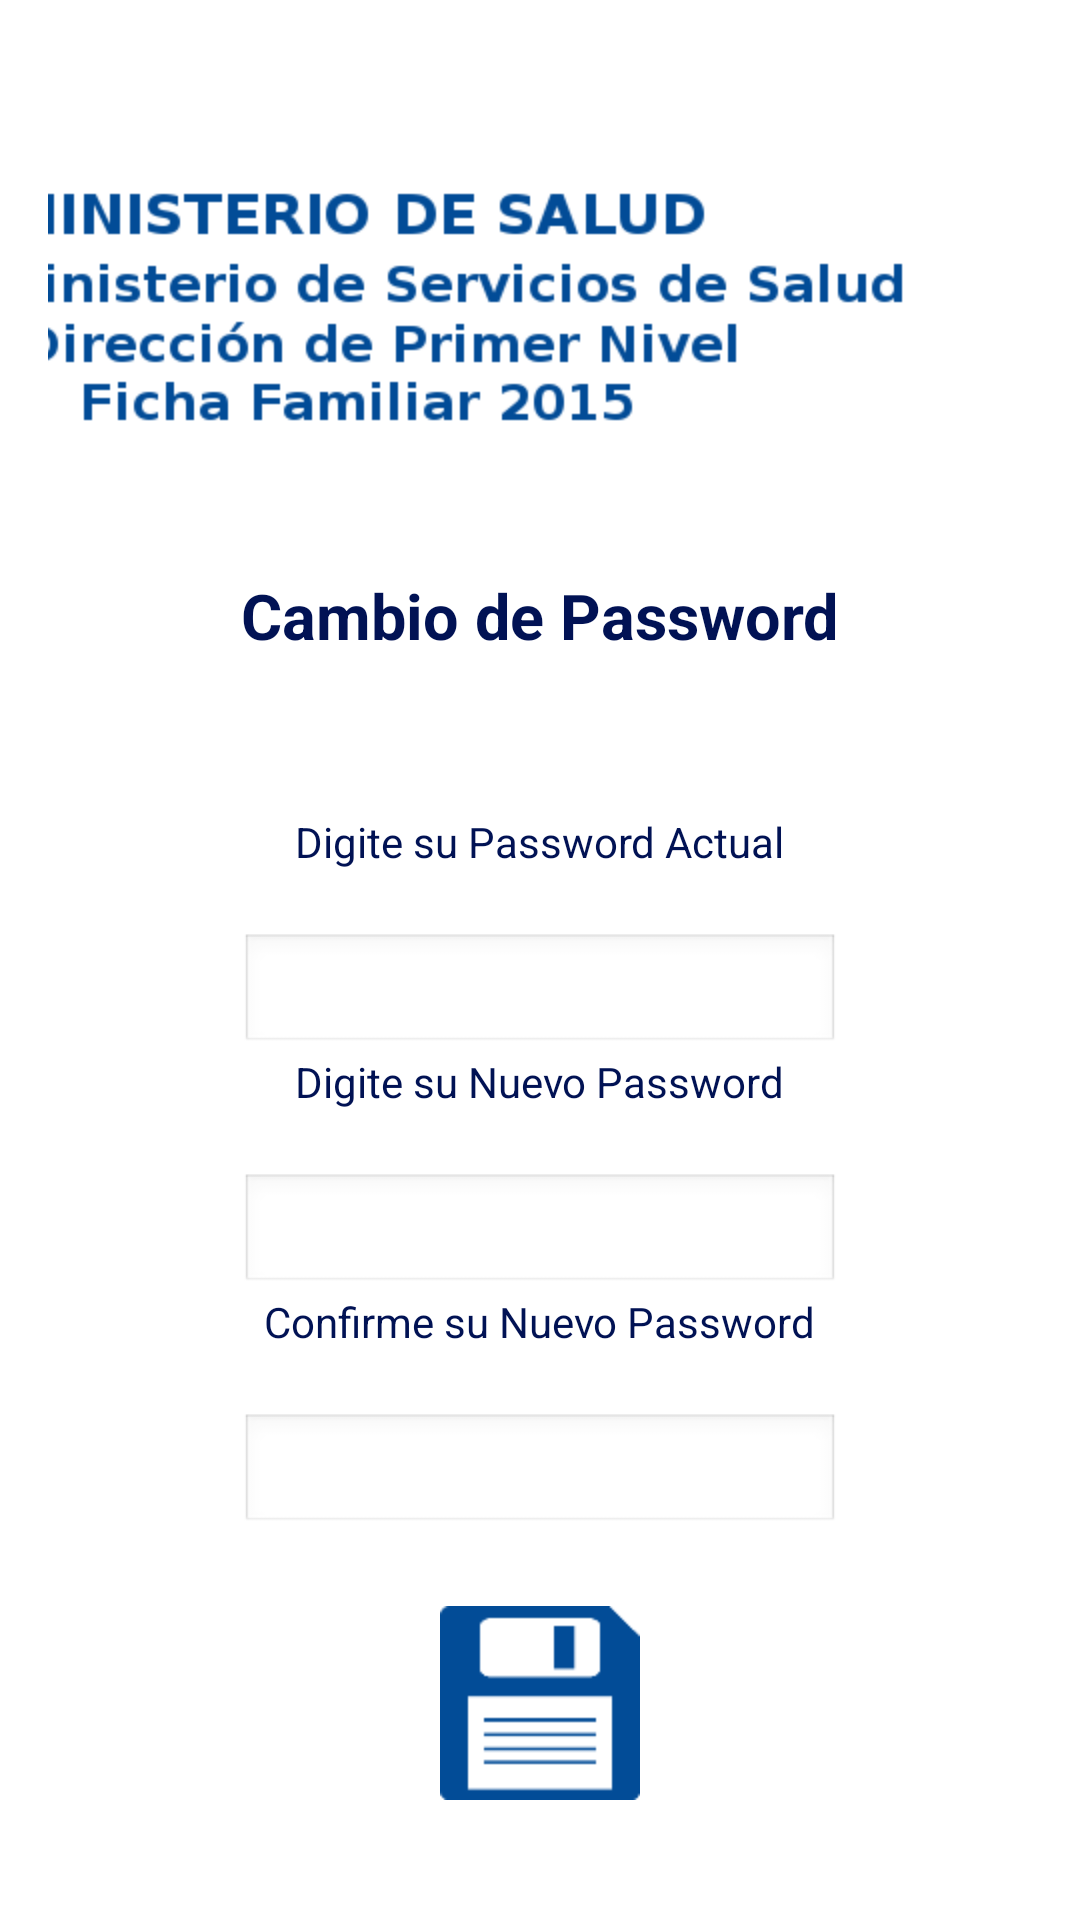

Screen size 1080px×1920px. Icon name, then its center in pixels as (x=x, y=y):
save: (x=540, y=1703)
